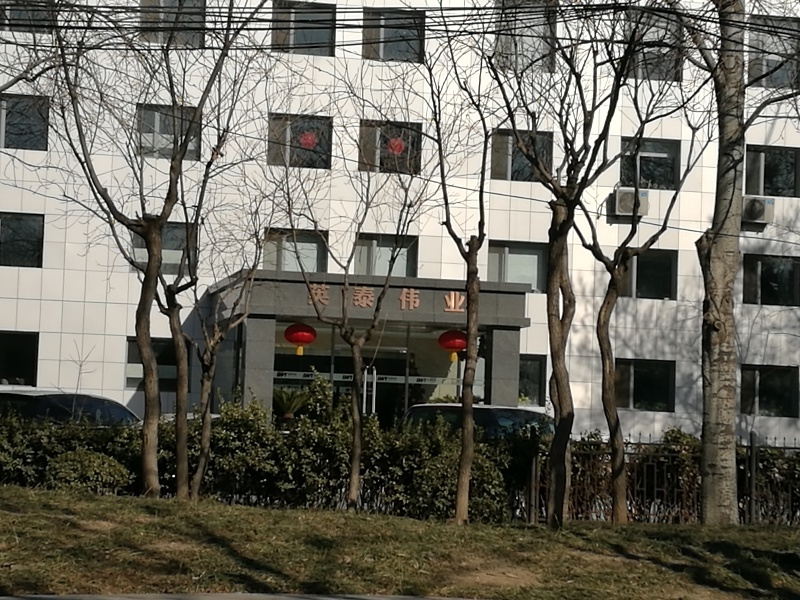text: (321, 282, 336, 314), (337, 282, 352, 314), (353, 282, 368, 314), (369, 282, 384, 314), (385, 282, 400, 314), (401, 282, 416, 314), (417, 282, 432, 314), (433, 282, 448, 314), (449, 282, 464, 314), (308, 282, 320, 314), (465, 282, 468, 314), (277, 372, 288, 378), (342, 375, 352, 381), (305, 373, 314, 379), (417, 378, 427, 383), (378, 377, 384, 382), (385, 377, 388, 382), (303, 373, 304, 379), (353, 375, 354, 381)
